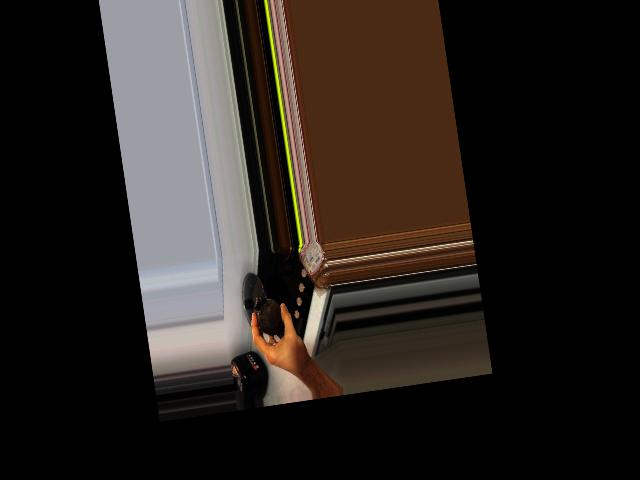beet: (253, 293, 284, 339)
